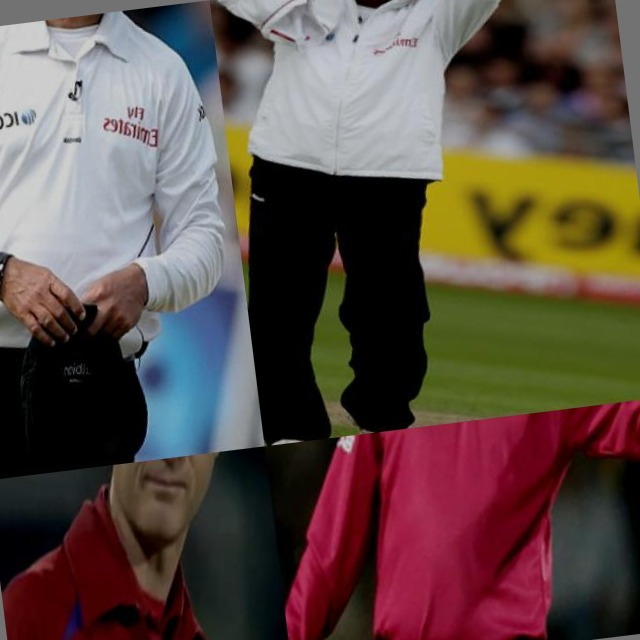No_Action: (0, 0, 265, 480), (0, 446, 293, 640)
No_Ball: (265, 397, 640, 640)
Six: (210, 0, 624, 446)
